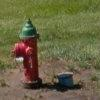Hydrant: (5, 8, 46, 94)
